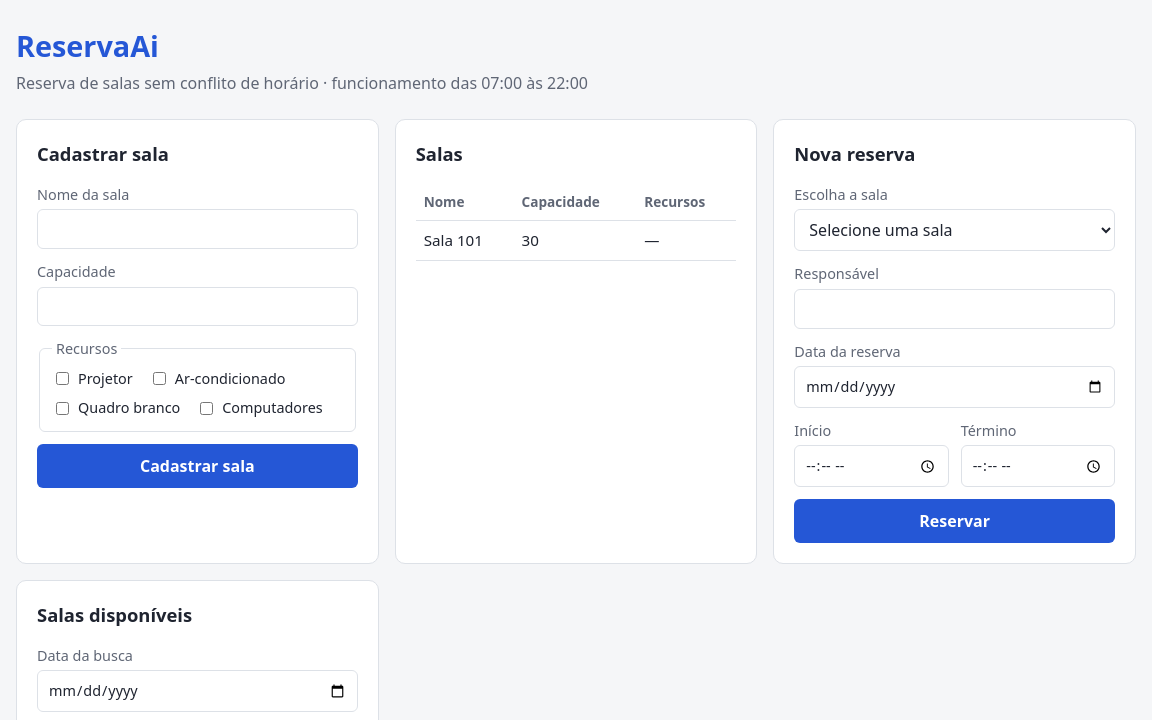
Test case: App › impede uma reserva em conflito de horário e mantém a reserva existente
The image size is (1152, 720).
Select "Sala 101 (30 lugares)" in the dropdown labelled "Escolha a sala" at (955, 230), box x1=794 y1=209 x2=1115 y2=251
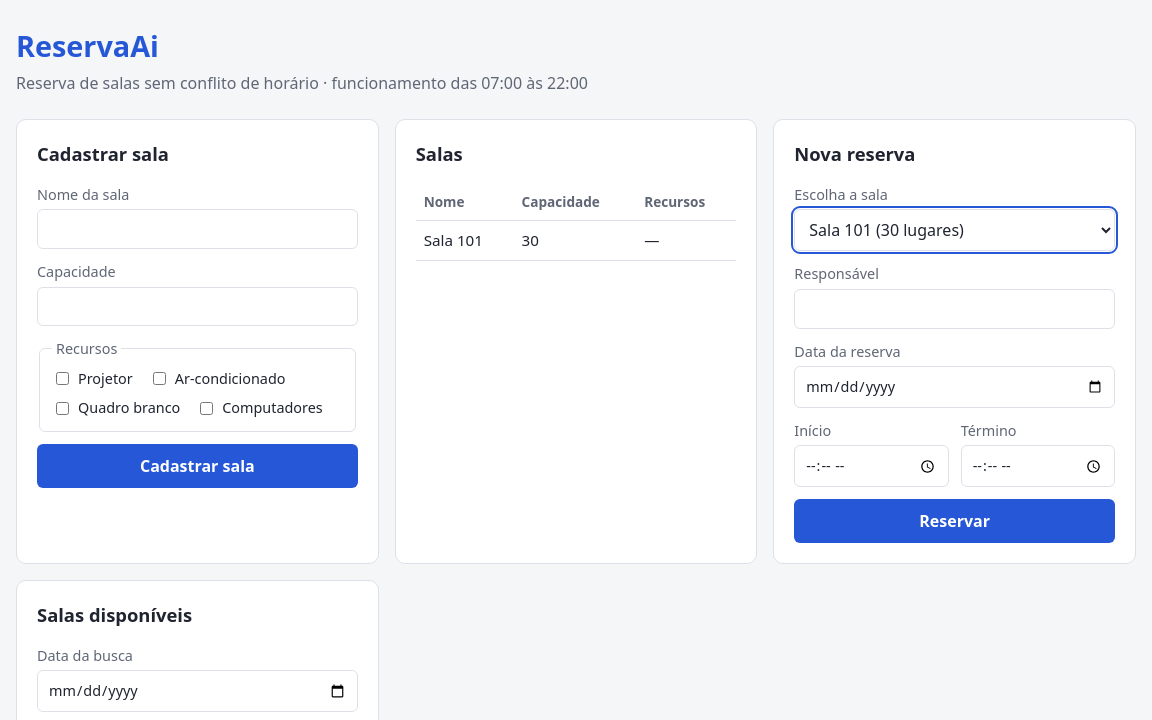
Type "Maria" into the field labelled "Responsável" at (955, 309), box x1=794 y1=289 x2=1115 y2=329
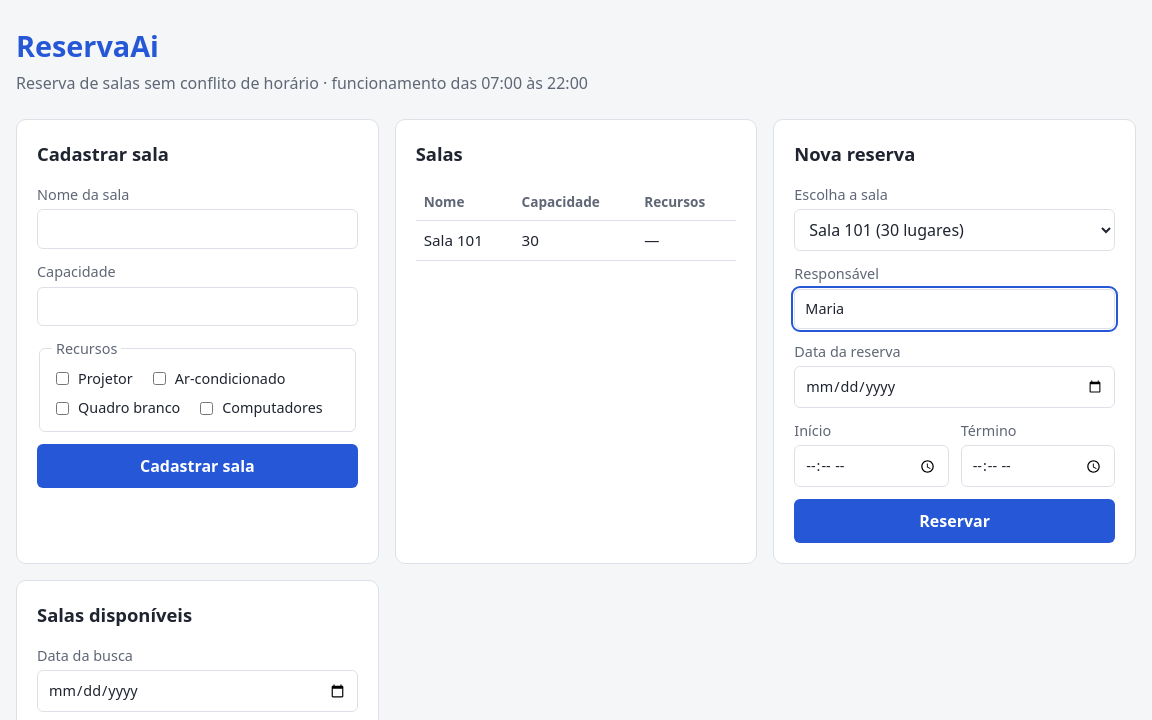
Type "2030-03-11" into the date field labelled "Data da reserva" at (955, 387), box x1=794 y1=366 x2=1115 y2=408
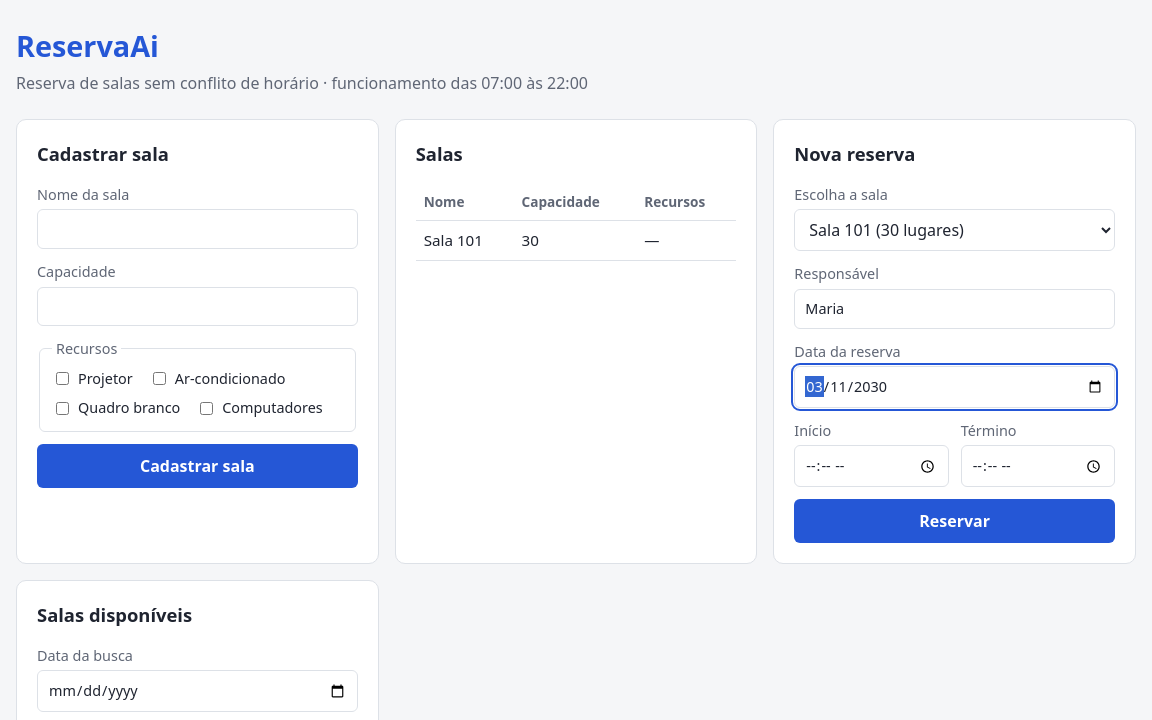
Type "10:00" into the time field labelled "Início" at (871, 466), box x1=794 y1=445 x2=949 y2=487
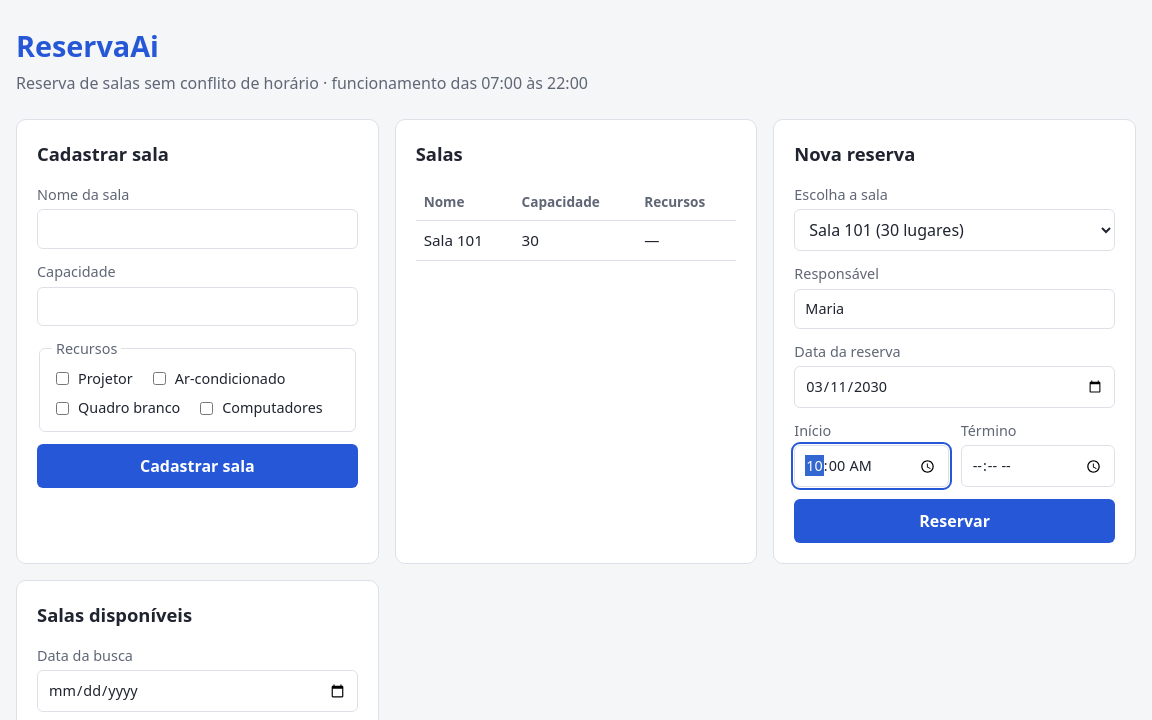
Type "12:00" into the time field labelled "Término" at (1038, 466), box x1=961 y1=445 x2=1115 y2=487
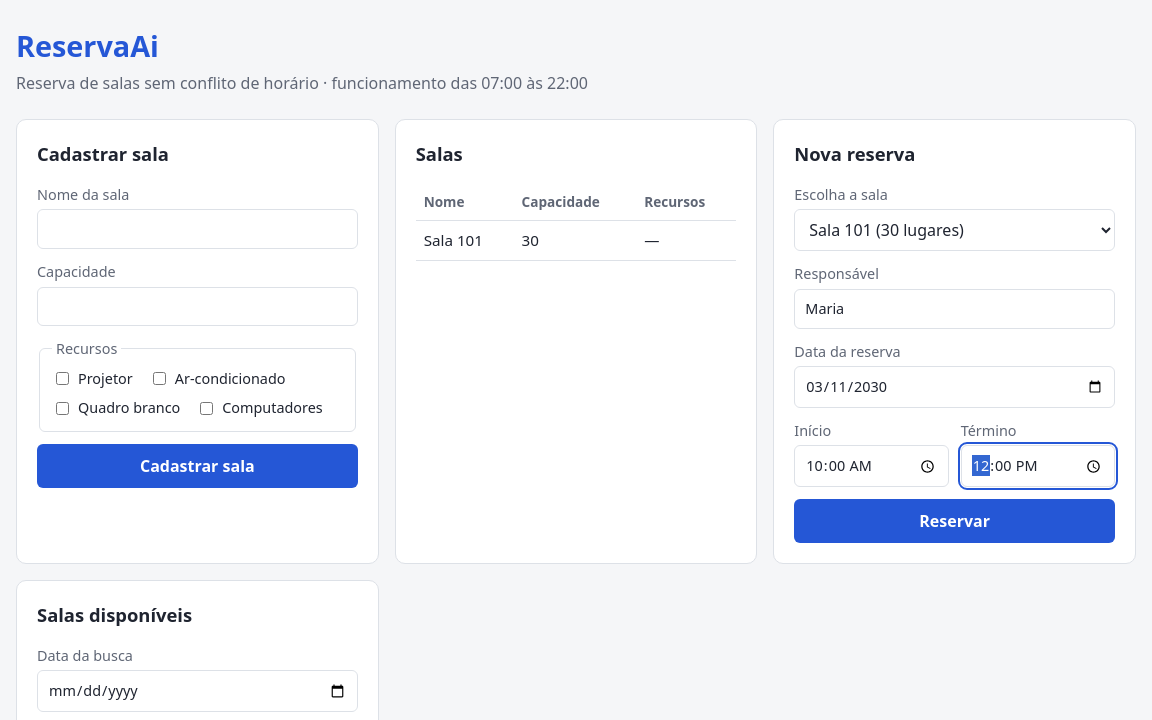
Click the button "Reservar" at (955, 521), box x1=794 y1=499 x2=1115 y2=543
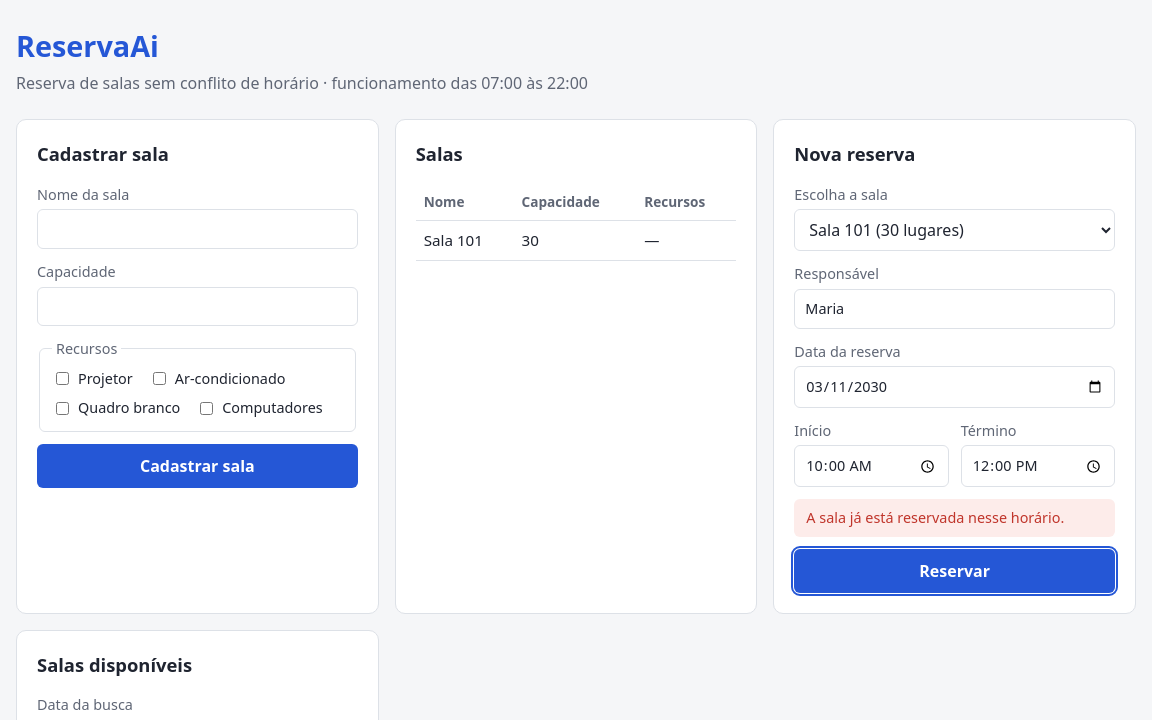
Expected: the message reads "A sala já está reservada nesse horário.", x1=806 y1=508 x2=1064 y2=527
